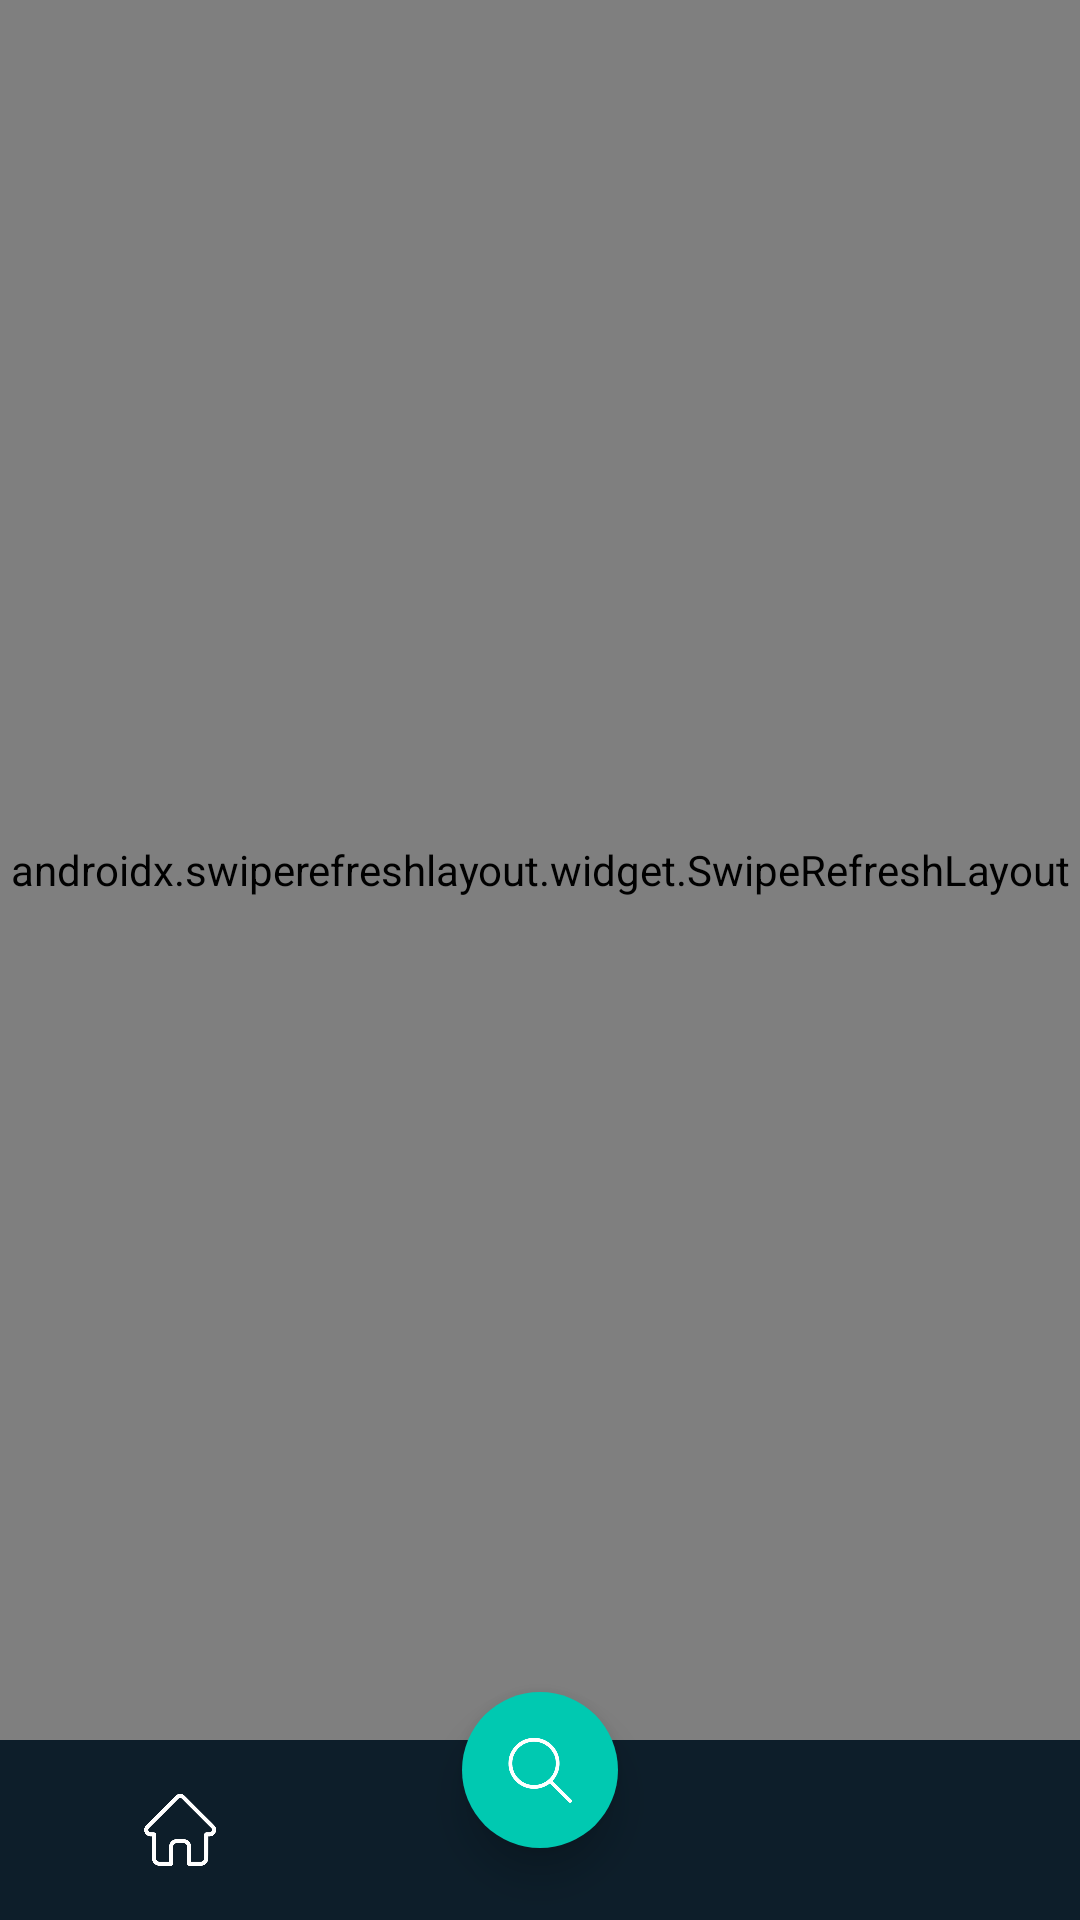

Locate icon controls on the screen. Image size 1080 x 1920, boxes as (x1, y1, x2, y2).
Home: (144, 1794, 216, 1866)
